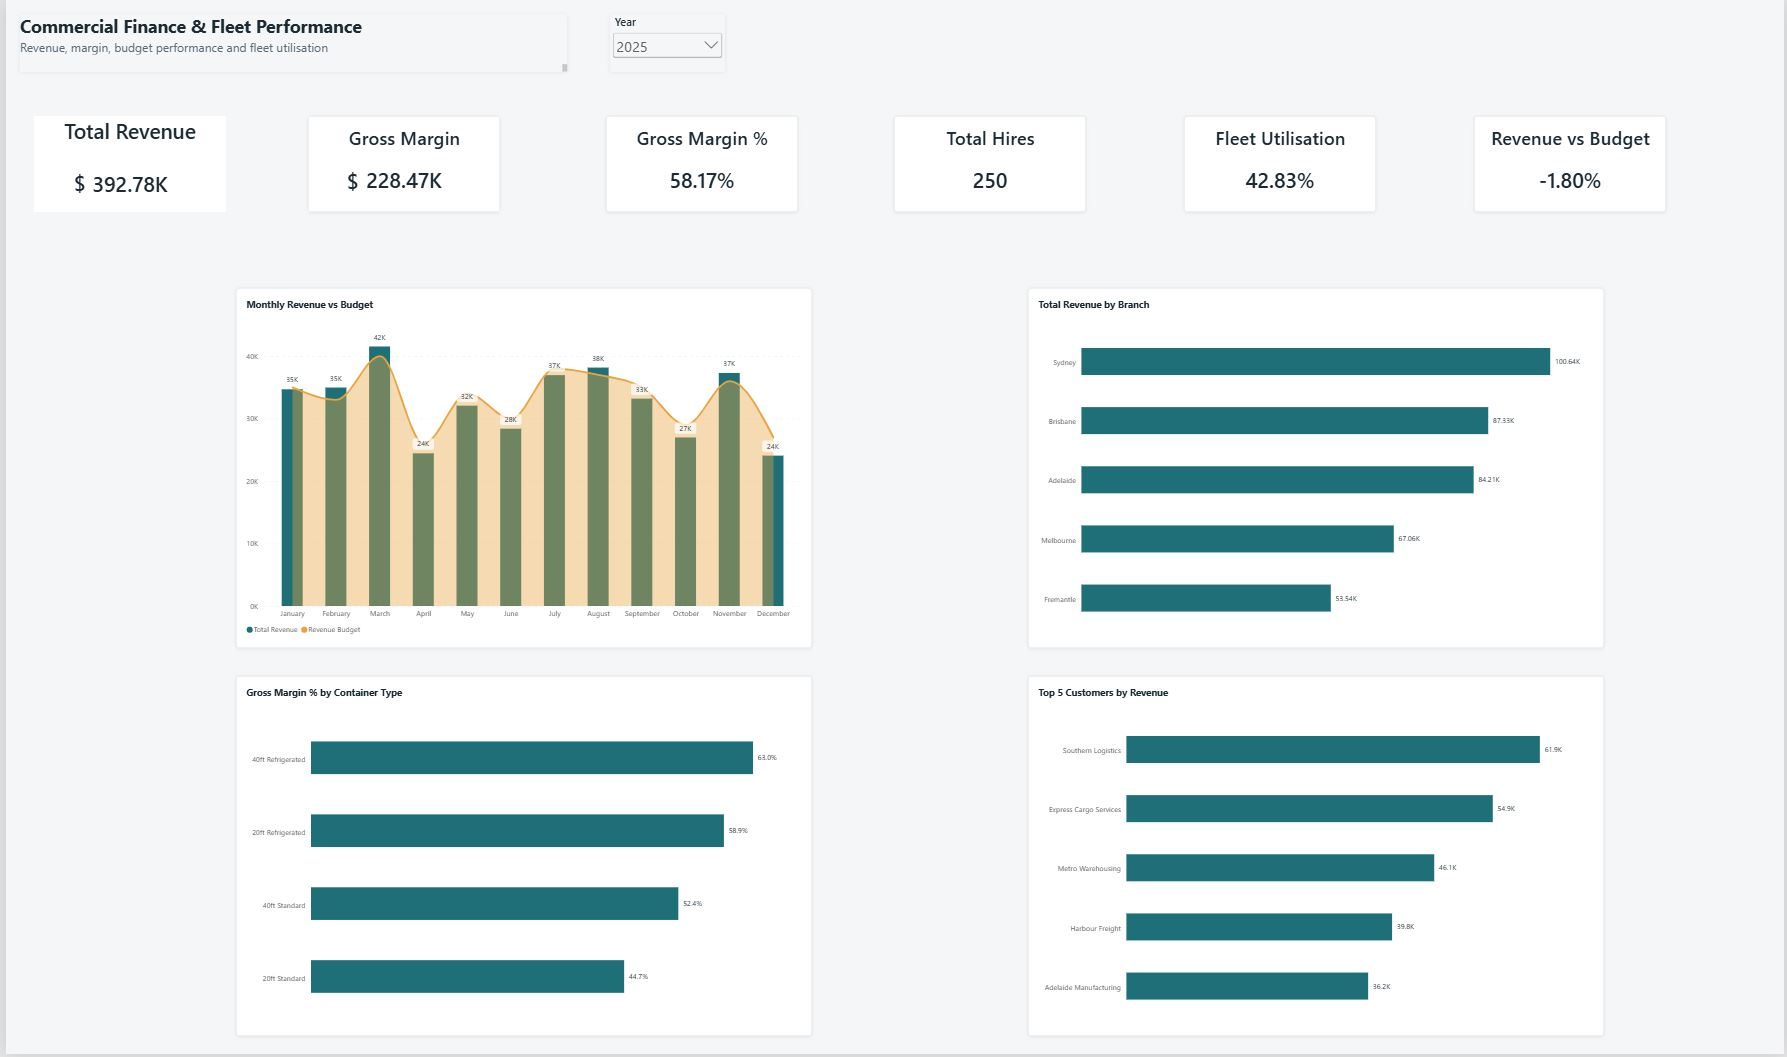

The page's visual inventory and layout, read from the dashboard file:
{"tool":"powerbi","page":{"name":"Executive  Overview","canvas":[2963,1757],"ordinal":0},"visuals":[{"type":"textbox","title":"Commercial Finance & Fleet Performance","box":[24,24,912,96],"z":0},{"type":"card","title":"Total Revenue ","fields":{"Values":["_Measures.Total Revenue"]},"box":[48,192,320,160],"z":0,"group":"g2"},{"type":"card","title":"Gross Margin","fields":{"Values":["_Measures.Gross Margin"]},"box":[504,192,320,160],"z":0,"group":"g1"},{"type":"card","title":"Revenue vs Budget ","fields":{"Values":["_Measures.Revenue Variance %"]},"box":[2448,192,320,160],"z":1000},{"type":"shape","title":"$","box":[555,274,48,48],"z":1000,"group":"g1"},{"type":"shape","title":"$","box":[108,280,32,48],"z":1000,"group":"g2"},{"type":"card","title":"Gross Margin %","fields":{"Values":["_Measures.Gross Margin %"]},"box":[998.4,192,320,160],"z":2000},{"type":"card","title":"Total Hires","fields":{"Values":["_Measures.Total Hires"]},"box":[1481.6,192,320,160],"z":3000},{"type":"group","id":"g1","title":"Group 1","box":[504,192,320,160],"z":4000},{"type":"group","id":"g2","title":"Group 2","box":[48,192,320,160],"z":5000},{"type":"card","title":"Fleet Utilisation","fields":{"Values":["_Measures.Fleet Utilization 2025 %"]},"box":[1964.8,192,320,160],"z":6000},{"type":"slicer","fields":{"Values":["DateTable.Year"]},"box":[1008,24,192,96],"z":7000},{"type":"lineClusteredColumnComboChart","title":"Monthly Revenue vs Budget","fields":{"Category":["DateTable.Month Name"],"Y":["_Measures.Total Revenue"],"Y2":["_Measures.Revenue Budget"]},"box":[384,480,960,600],"z":8000},{"type":"clusteredBarChart","title":"Total Revenue by Branch","fields":{"Category":["vw_financial_performance.branch_name"],"Y":["_Measures.Total Revenue"]},"box":[1704,480,960,600],"z":9000},{"type":"clusteredBarChart","title":"Gross Margin % by Container Type","fields":{"Category":["vw_financial_performance.container_type"],"Y":["_Measures.Gross Margin %"]},"box":[384,1128,960,600],"z":10000},{"type":"clusteredBarChart","title":"Top 5 Customers by Revenue","fields":{"Category":["vw_financial_performance.customer_name"],"Y":["_Measures.Total Revenue"]},"box":[1704,1128,960,600],"z":11000}]}

Visuals, with their boxes in screenshot pixels (x1, y1, x2, y2), scaled from the page's 2963x1757 canvas onto the 1787x1057 screenshot:
"Commercial Finance & Fleet Performance" textbox: Rect(14, 14, 565, 72)
"Total Revenue " card: Rect(29, 116, 222, 212)
"Gross Margin" card: Rect(304, 116, 497, 212)
"Revenue vs Budget " card: Rect(1476, 116, 1669, 212)
"$" shape: Rect(335, 165, 364, 194)
"$" shape: Rect(65, 168, 84, 197)
"Gross Margin %" card: Rect(602, 116, 795, 212)
"Total Hires" card: Rect(894, 116, 1087, 212)
"Group 1" group: Rect(304, 116, 497, 212)
"Group 2" group: Rect(29, 116, 222, 212)
"Fleet Utilisation" card: Rect(1185, 116, 1378, 212)
slicer - DateTable.Year: Rect(608, 14, 724, 72)
"Monthly Revenue vs Budget" lineClusteredColumnComboChart: Rect(232, 289, 811, 650)
"Total Revenue by Branch" clusteredBarChart: Rect(1028, 289, 1607, 650)
"Gross Margin % by Container Type" clusteredBarChart: Rect(232, 679, 811, 1040)
"Top 5 Customers by Revenue" clusteredBarChart: Rect(1028, 679, 1607, 1040)
